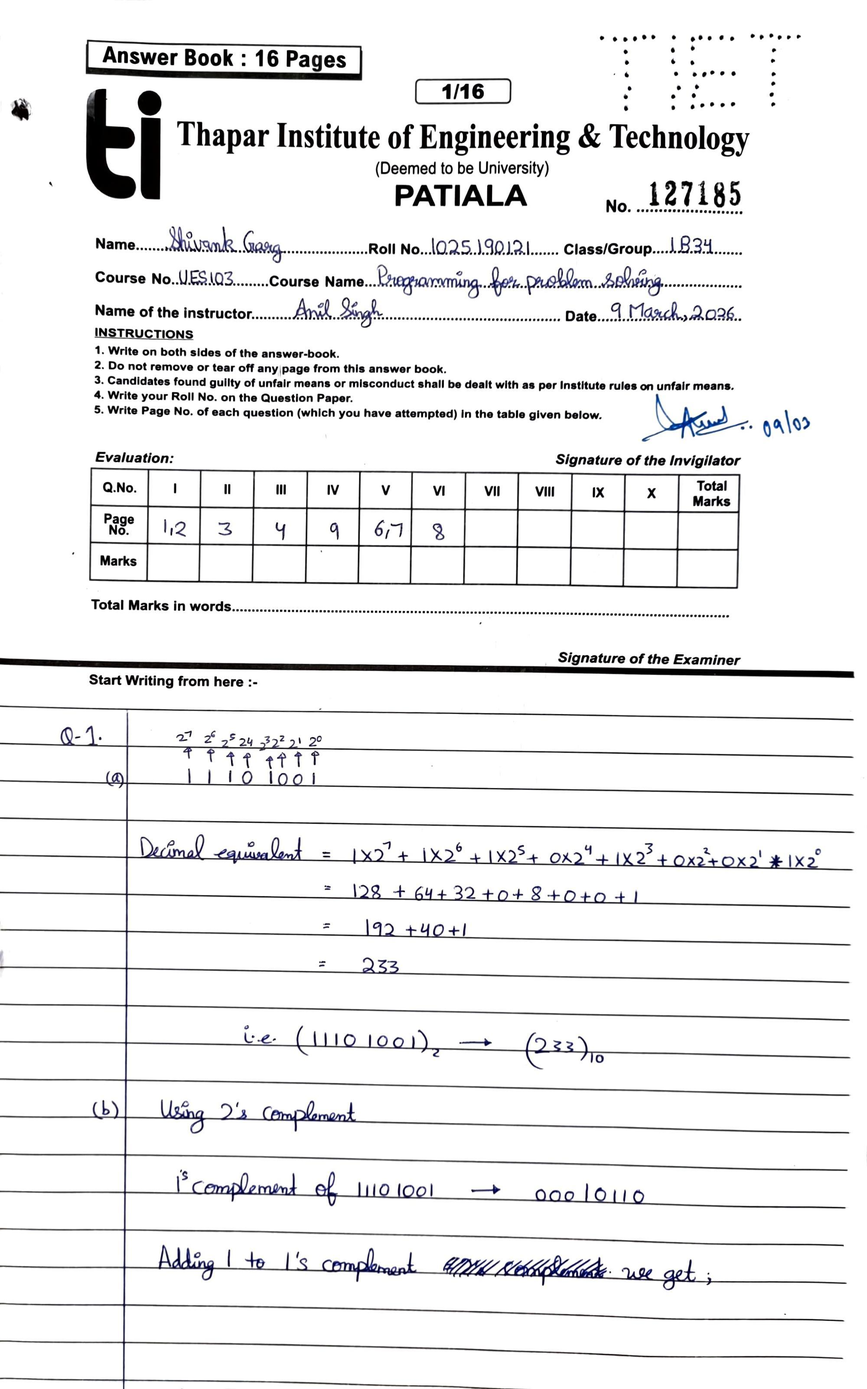cuttings: (441, 1253, 608, 1287)
